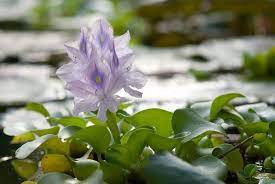water_hyacinth: (9, 16, 275, 184)
